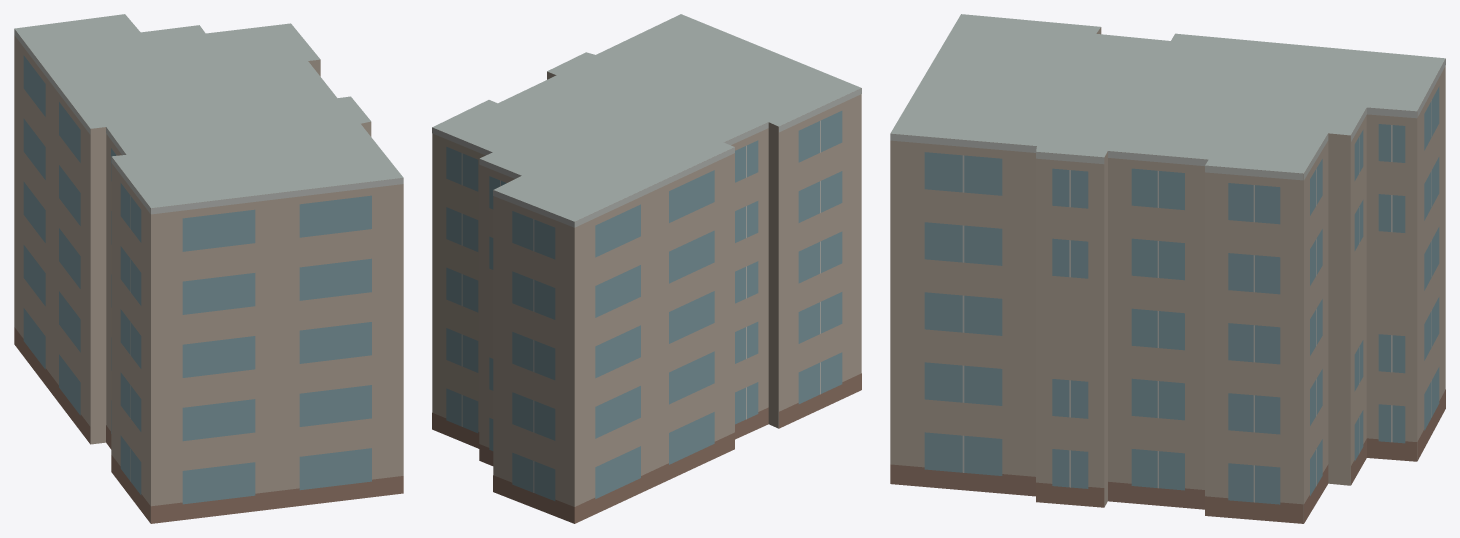
The model's file is survey-upis-32673249.glb.
3 renders of one model, left to right at view 1: azimuth 30°, elevation 25°; view 2: azimuth 150°, elevation 25°; view 3: azimuth 270°, elevation 25°, orthographic. The views are drawn at different scales.
Visible parts, largest first — view 1: survey-upis-32673249.tmp; view 2: survey-upis-32673249.tmp; view 3: survey-upis-32673249.tmp.
Boxes of the visible parts, x1=… form: survey-upis-32673249.tmp: x1=14, y1=14, x2=403, y2=523; survey-upis-32673249.tmp: x1=432, y1=14, x2=861, y2=523; survey-upis-32673249.tmp: x1=890, y1=14, x2=1445, y2=523.
Size of the model in its own units: 12.02 by 12.3 by 17.69.
